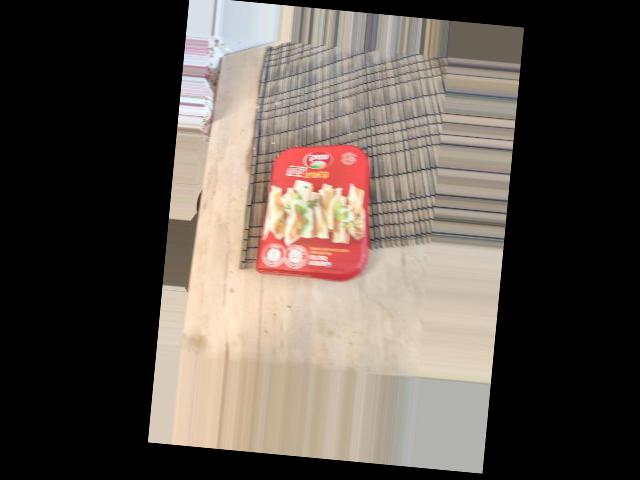cheese: (281, 110, 426, 207)
